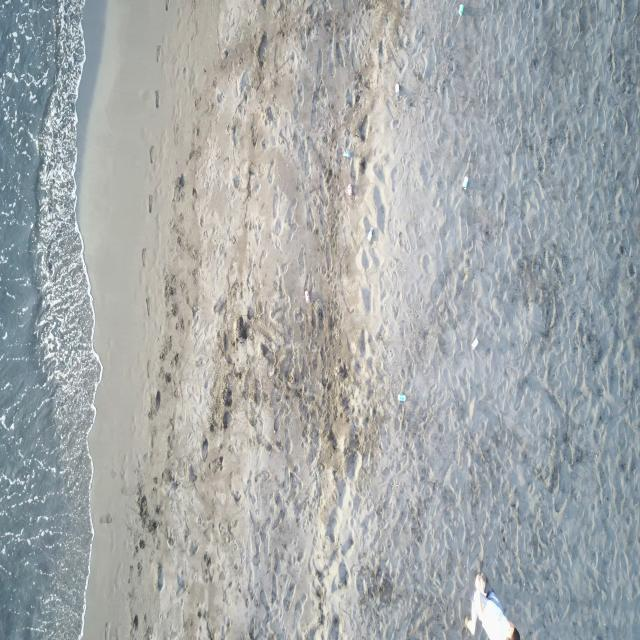tin-and-aluminum-cans: (461, 174, 469, 192), (346, 182, 354, 198), (367, 225, 374, 243), (397, 392, 406, 403), (471, 338, 479, 350), (304, 288, 310, 304), (395, 82, 400, 97), (343, 149, 350, 159), (459, 3, 464, 17)
